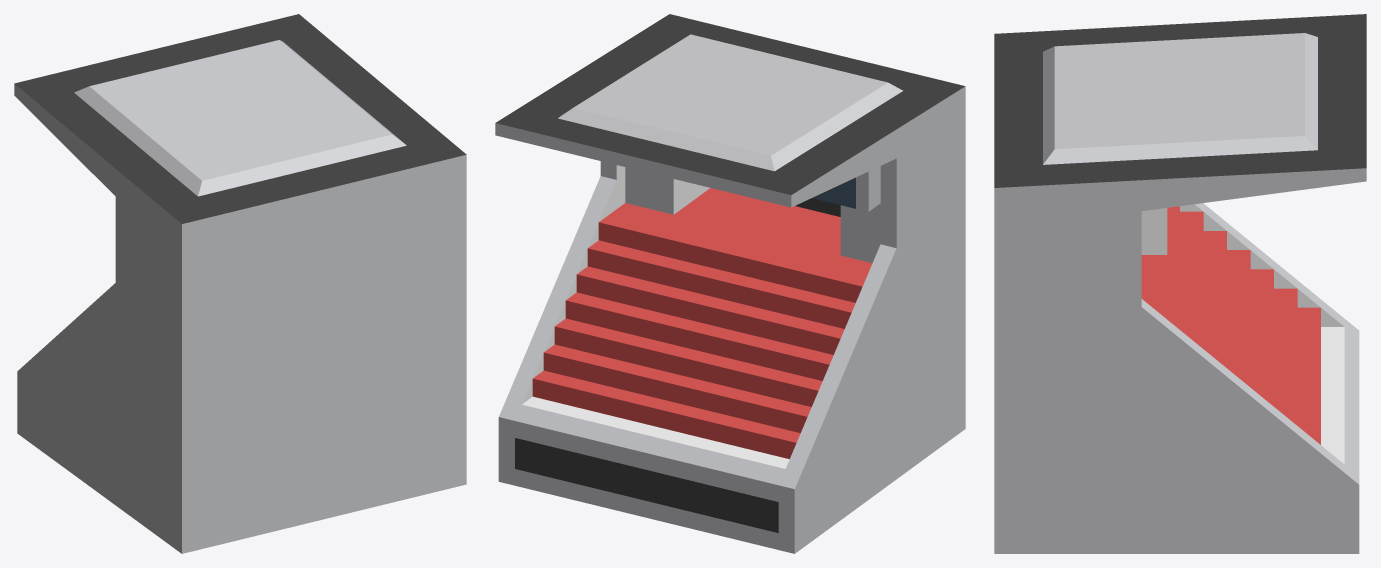
File: grandStandCovered.fbx
The picture shows the model from 3 angles, left to right: view 1: azimuth 30°, elevation 25°; view 2: azimuth 150°, elevation 25°; view 3: azimuth 270°, elevation 25°; orthographic projection. The views are drawn at different scales.
Parts seen in each view (by area): view 1: grandStandCovered; view 2: grandStandCovered; view 3: grandStandCovered.
Boxes of the visible parts, left/top/right/bottom form: grandStandCovered: left=14, top=14, right=466, bottom=553; grandStandCovered: left=495, top=14, right=965, bottom=553; grandStandCovered: left=994, top=14, right=1366, bottom=553.
Size of the model in its own units: 10 by 11.86 by 10.2.
